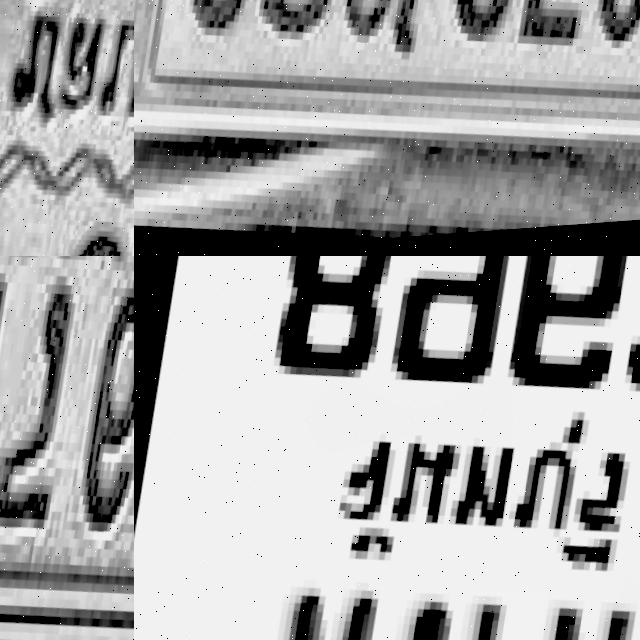license-plate: (134, 256, 640, 640), (134, 0, 640, 211), (0, 256, 134, 640), (0, 0, 134, 256)
